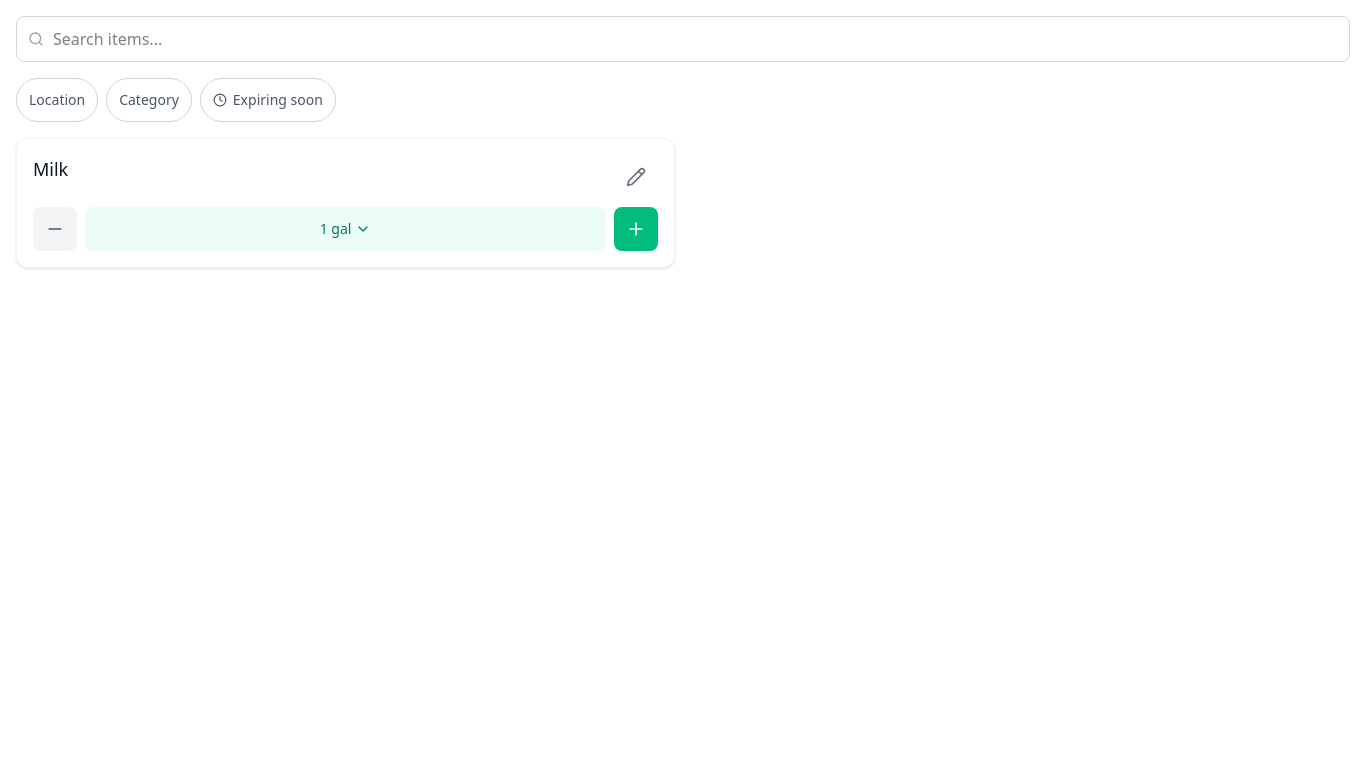
Test: HomePage › zero-quantity confirm › does not delete when Cancel is clicked and keeps quantity at 1
What coordinates should you click on to do the following:
click the button named "Decrease quantity"
I would click on:
 (55, 229)
Its box is [33,207,77,251].
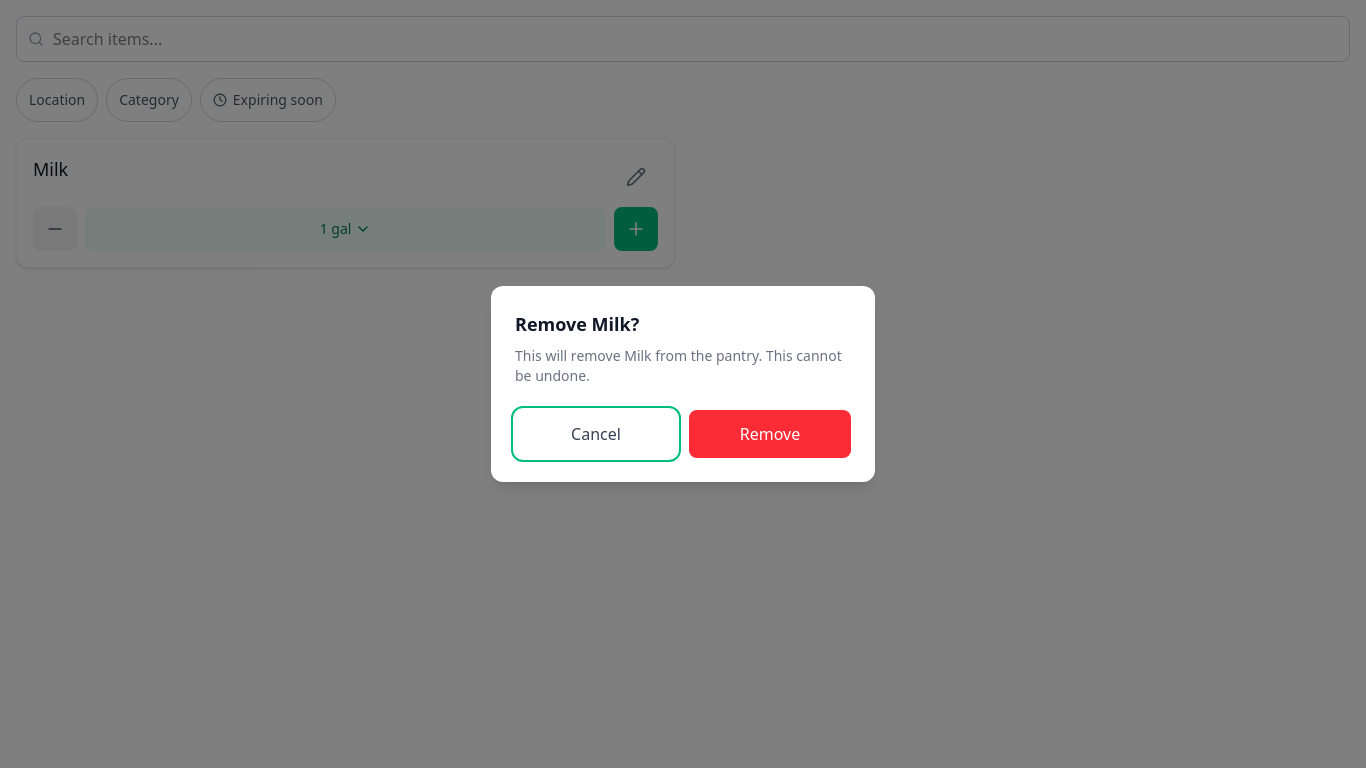
What coordinates should you click on to do the following:
click the button "Cancel"
I would click on:
 (596, 434)
Its box is [515,410,677,458].
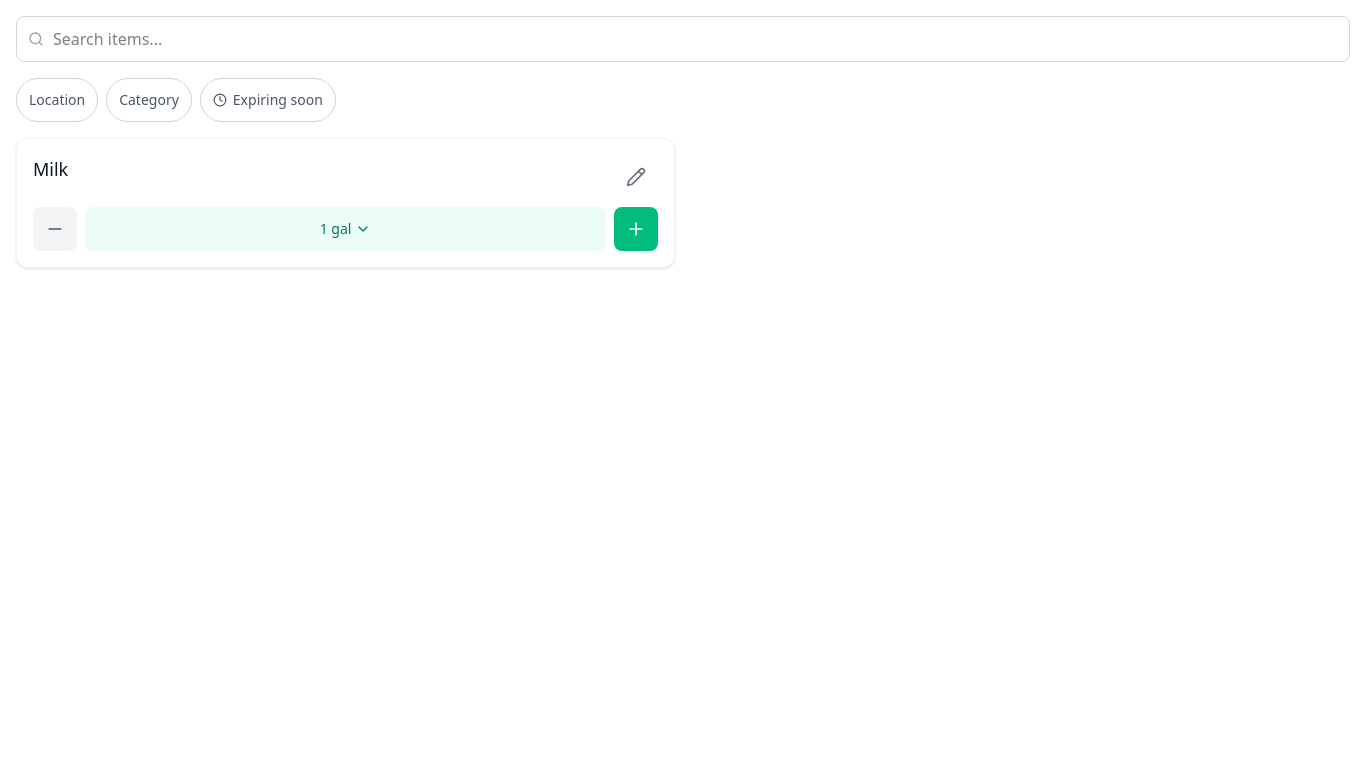
Expected: the button with test id "quantity-badge" reads "1 gal", [85,207,606,251]
Now the dialog is gone
